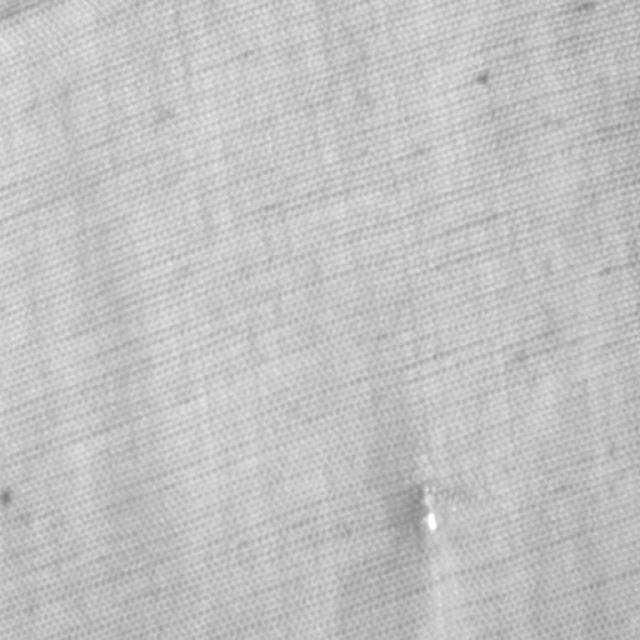hole: (418, 481, 438, 535)
